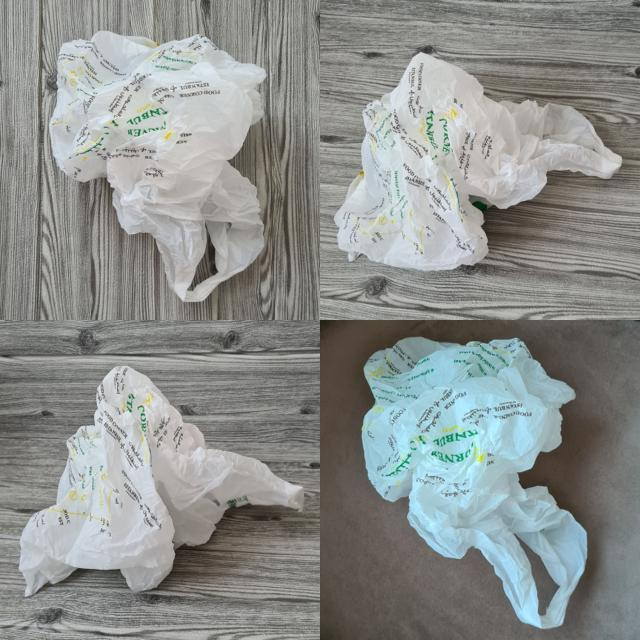Single-layer Plastic: (362, 338, 588, 629), (20, 366, 304, 596), (335, 52, 621, 270), (50, 31, 265, 302)
